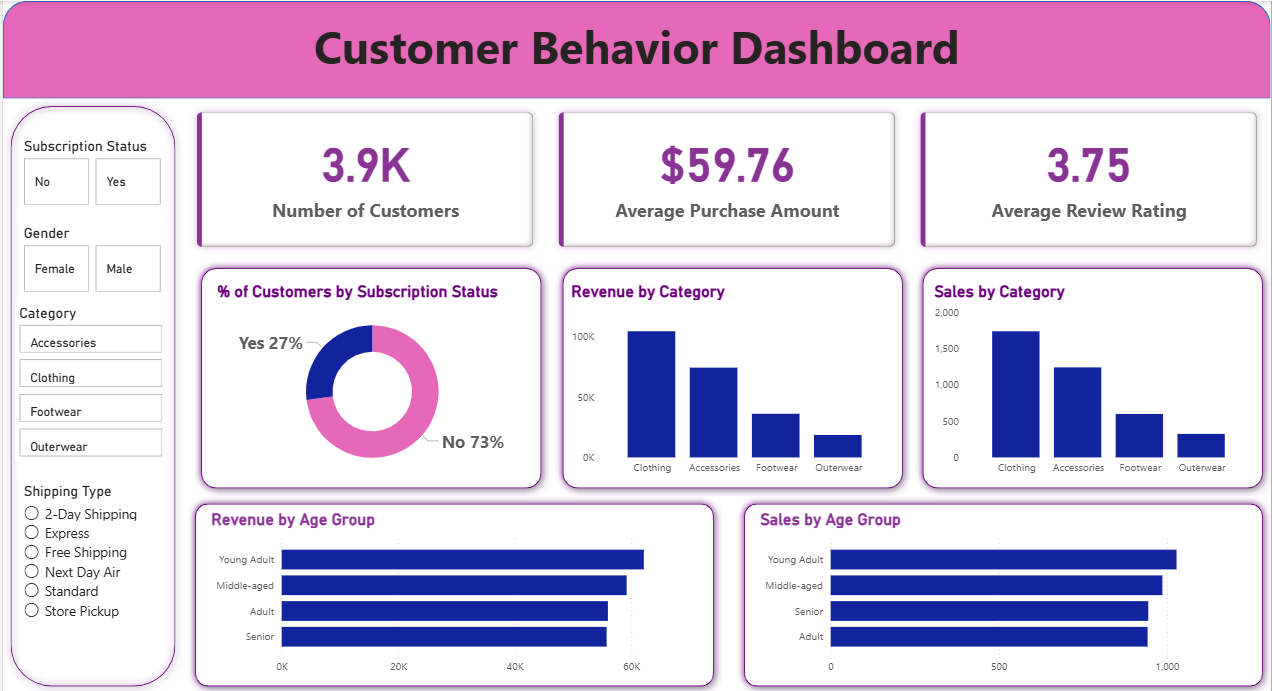

The page's visual inventory and layout, read from the dashboard file:
{"tool":"powerbi","page":{"name":"Page 1","canvas":[1500,820],"ordinal":0},"visuals":[{"type":"cardVisual","fields":{"Data":["customers.Number of Customers","customers.Average Purchase Amount","customers.Average Review Rating"]},"box":[195.6,100,1280.9,192.6],"z":0},{"type":"shape","box":[0,0,1500,98.6],"z":1000},{"type":"textbox","box":[23.2,0,1453.6,100.1],"z":2000},{"type":"shape","box":[1058.8,295.6,397.1,273.5],"z":3000},{"type":"shape","box":[637.3,295.5,397,273.1],"z":4000},{"type":"shape","box":[222.4,295.5,397,273.1],"z":5000},{"type":"donutChart","title":"Subscription Status","fields":{"Category":["customers.subscription_status"],"Y":["CountNonNull(customers.customer_id)"]},"box":[241.2,311.8,357.4,239.7],"z":6000},{"type":"clusteredColumnChart","title":"Revenue by category","fields":{"Y":["Sum(customers.purchase_amount)"],"Category":["customers.category"]},"box":[652.9,311.8,364.7,241.2],"z":7000},{"type":"clusteredColumnChart","title":"Sales by category","fields":{"Y":["CountNonNull(customers.customer_id)"],"Category":["customers.category"]},"box":[1075,310.3,364.7,241.2],"z":8000},{"type":"shape","box":[0,100,210.3,720.6],"z":9000},{"type":"advancedSlicerVisual","fields":{"Values":["customers.subscription_status"]},"box":[20.6,138.2,172.1,94.1],"z":10000},{"type":"advancedSlicerVisual","fields":{"Values":["customers.gender"]},"box":[19.1,236.8,172.1,88.2],"z":11000},{"type":"advancedSlicerVisual","fields":{"Values":["customers.category"]},"box":[19.1,333.8,172.1,219.1],"z":11001},{"type":"listSlicer","fields":{"Values":["customers.shipping_type"]},"box":[19.1,569.1,170.6,211.8],"z":11002},{"type":"shape","box":[222.7,569.7,612.1,251.5],"z":11004},{"type":"clusteredBarChart","title":"Revenue by Age Group","fields":{"Y":["Sum(customers.purchase_amount)"],"Category":["customers.age_group"]},"box":[240.9,581.8,574.2,225.8],"z":11005},{"type":"shape","box":[843.9,568.2,612.1,251.5],"z":11006},{"type":"clusteredBarChart","title":"Sales by Age Group","fields":{"Y":["CountNonNull(customers.customer_id)"],"Category":["customers.age_group"]},"box":[863.6,581.8,574.2,225.8],"z":11007}]}

Visuals, with their boxes in screenshot pixels (x1, y1, x2, y2), scaled from the page's 1500x820 canvas onto the 1272x691 screenshot:
cardVisual - customers.Number of Customers x customers.Average Purchase Amount: 166,84,1252,247
shape: 0,0,1271,83
textbox: 20,0,1252,84
shape: 898,249,1235,480
shape: 540,249,877,479
shape: 189,249,525,479
"Subscription Status" donutChart: 205,263,508,465
"Revenue by category" clusteredColumnChart: 554,263,863,466
"Sales by category" clusteredColumnChart: 912,261,1221,465
shape: 0,84,178,690
advancedSlicerVisual - customers.subscription_status: 17,116,163,196
advancedSlicerVisual - customers.gender: 16,200,162,274
advancedSlicerVisual - customers.category: 16,281,162,466
listSlicer - customers.shipping_type: 16,480,161,658
shape: 189,480,708,690
"Revenue by Age Group" clusteredBarChart: 204,490,691,681
shape: 716,479,1235,690
"Sales by Age Group" clusteredBarChart: 732,490,1219,681
